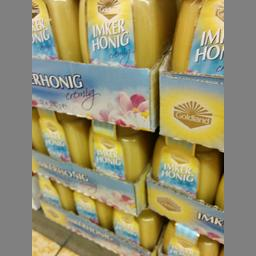honey: (78, 0, 159, 66), (150, 135, 220, 202), (87, 119, 153, 184), (36, 108, 90, 170), (30, 0, 79, 61), (111, 204, 161, 246), (71, 190, 111, 228), (36, 175, 70, 214)
